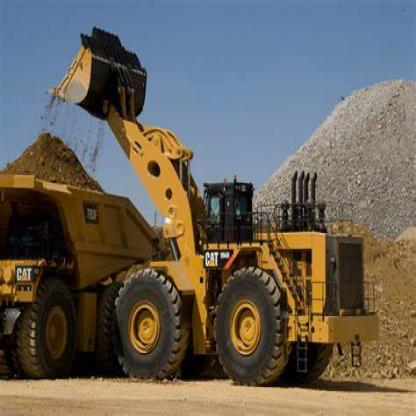bull_dozer/loader/grader: (45, 22, 385, 391)
